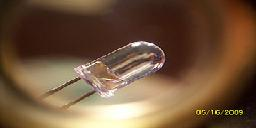LED: (38, 41, 168, 112)
